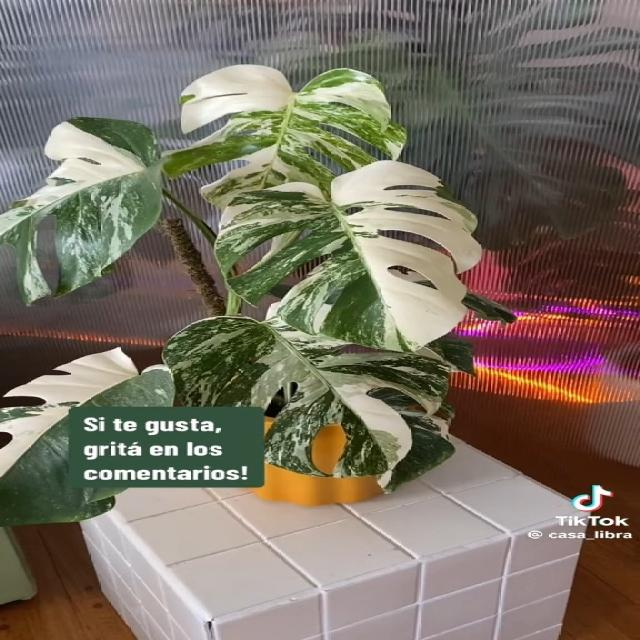lisc_variegata: (161, 314, 458, 492), (212, 160, 486, 352), (177, 61, 412, 207), (0, 345, 175, 531), (0, 117, 167, 308)
roslina_variegata: (0, 63, 523, 530)
